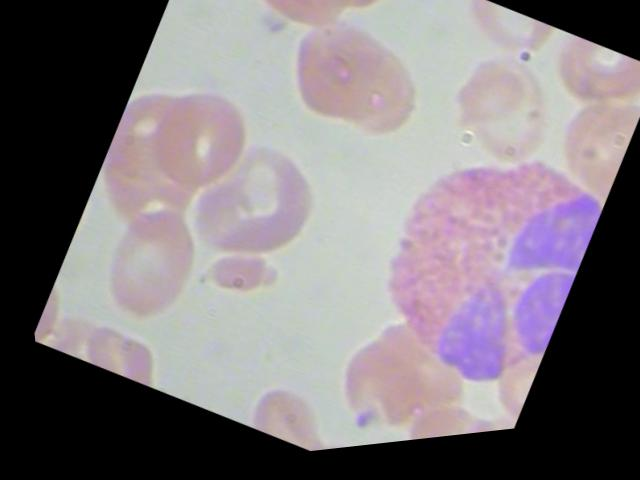Red Blood Cells: (71, 182, 216, 340), (127, 67, 267, 214), (425, 43, 568, 186), (436, 0, 569, 102), (532, 36, 639, 150), (62, 297, 176, 399), (224, 369, 337, 462), (371, 382, 507, 450), (232, 0, 371, 54)
White Blood Cells: (316, 109, 623, 436)
